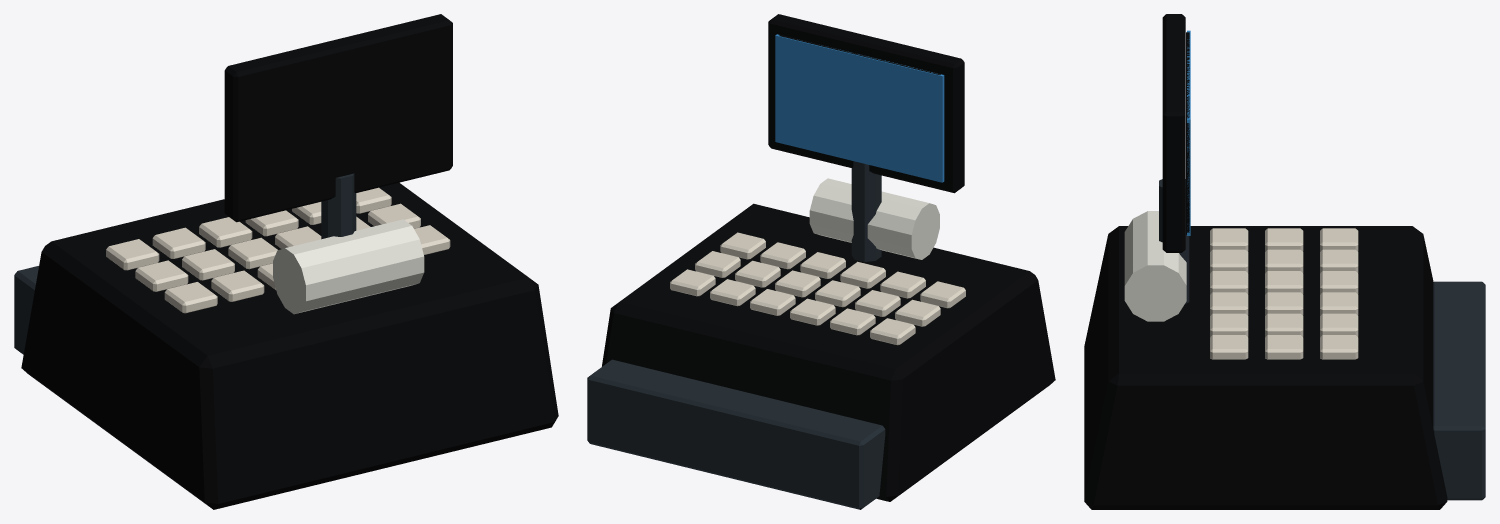
Rendered from INTERIOR_13_CashRegister.obj.
3 views of the same model, side by side, from view 1: azimuth 30°, elevation 25°; view 2: azimuth 150°, elevation 25°; view 3: azimuth 270°, elevation 25° (orthographic). The views are drawn at different scales.
Visible parts, largest first — view 1: INTERIOR_13_CashRegister_Body, INTERIOR_13_CashRegister_Screen, INTERIOR_13_CashRegister_Keys, INTERIOR_13_CashRegister_Receipt_Roll, INTERIOR_13_CashRegister_Screen_Arm, INTERIOR_13_CashRegister_Drawer; view 2: INTERIOR_13_CashRegister_Body, INTERIOR_13_CashRegister_Drawer, INTERIOR_13_CashRegister_Screen_Face, INTERIOR_13_CashRegister_Keys, INTERIOR_13_CashRegister_Screen, INTERIOR_13_CashRegister_Receipt_Roll, INTERIOR_13_CashRegister_Screen_Arm; view 3: INTERIOR_13_CashRegister_Body, INTERIOR_13_CashRegister_Keys, INTERIOR_13_CashRegister_Drawer, INTERIOR_13_CashRegister_Screen, INTERIOR_13_CashRegister_Receipt_Roll, INTERIOR_13_CashRegister_Screen_Arm, INTERIOR_13_CashRegister_Screen_Face.
Boxes of the visible parts, box(x1,y1,x2,y2) form: INTERIOR_13_CashRegister_Body: box(21, 182, 558, 509); INTERIOR_13_CashRegister_Screen: box(224, 14, 452, 222); INTERIOR_13_CashRegister_Keys: box(106, 187, 450, 313); INTERIOR_13_CashRegister_Receipt_Roll: box(273, 219, 424, 314); INTERIOR_13_CashRegister_Screen_Arm: box(321, 173, 356, 239); INTERIOR_13_CashRegister_Drawer: box(14, 266, 38, 354); INTERIOR_13_CashRegister_Body: box(602, 203, 1055, 501); INTERIOR_13_CashRegister_Drawer: box(587, 359, 885, 509); INTERIOR_13_CashRegister_Screen_Face: box(775, 34, 944, 182); INTERIOR_13_CashRegister_Keys: box(670, 232, 965, 345); INTERIOR_13_CashRegister_Screen: box(768, 14, 964, 193); INTERIOR_13_CashRegister_Receipt_Roll: box(809, 178, 939, 259); INTERIOR_13_CashRegister_Screen_Arm: box(851, 161, 881, 261); INTERIOR_13_CashRegister_Body: box(1084, 226, 1447, 509); INTERIOR_13_CashRegister_Keys: box(1210, 228, 1358, 359); INTERIOR_13_CashRegister_Drawer: box(1433, 281, 1485, 500); INTERIOR_13_CashRegister_Screen: box(1162, 14, 1189, 252); INTERIOR_13_CashRegister_Receipt_Roll: box(1124, 211, 1186, 321); INTERIOR_13_CashRegister_Screen_Arm: box(1159, 179, 1189, 303); INTERIOR_13_CashRegister_Screen_Face: box(1187, 30, 1190, 235).
Size of the model in its own units: 0.4188 by 0.445 by 0.4382.
